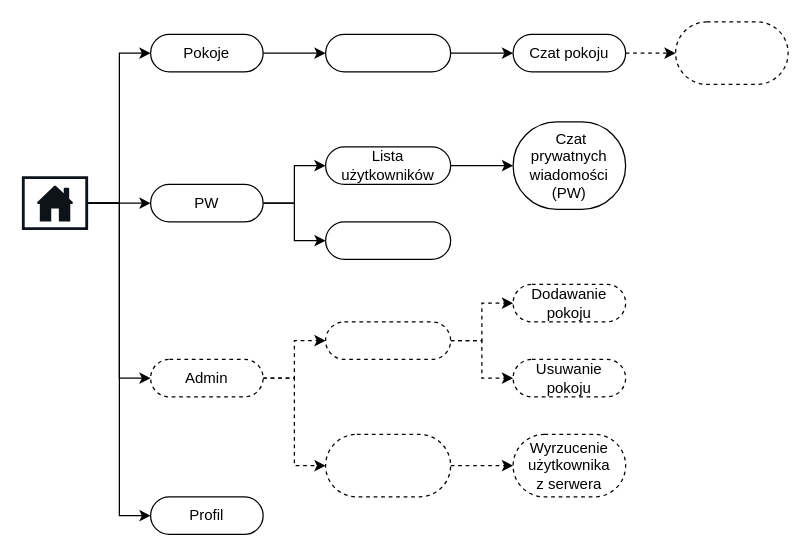
The diagram is 810 pixels wide and 556 high, and some of its shapes have lost their labels. The box of each missing label's shape, as (x1, y1, x2, y2) in pixels:
Administracyjna lista pokojów: (324, 321, 451, 359)
Administracyjna lista użytkowników: (324, 433, 451, 497)
Lista pokojów: (324, 33, 451, 72)
Wyrzucenie użytkownika z pokoju: (674, 21, 788, 84)
Wyszukaj użytkownika: (324, 221, 451, 259)
